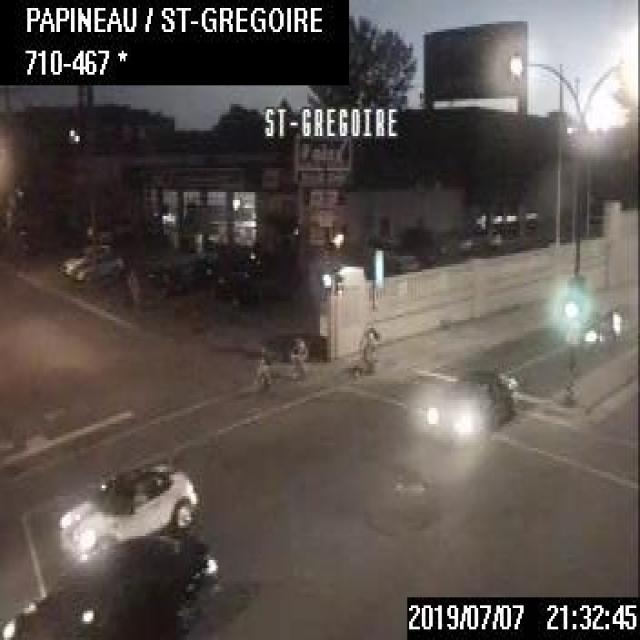cyclist: (351, 326, 378, 374), (247, 344, 273, 392), (286, 336, 308, 376)
vehicle: (1, 530, 219, 638), (56, 456, 199, 558), (427, 365, 515, 432), (58, 240, 110, 275), (70, 249, 121, 284)
